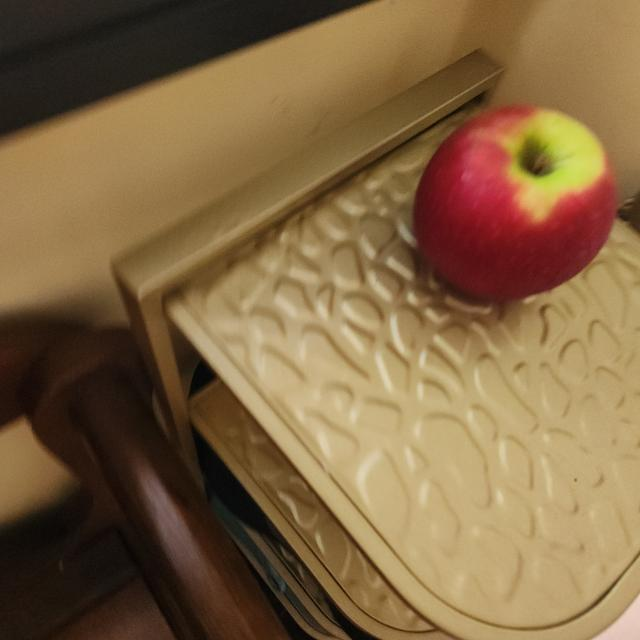apple: (400, 94, 623, 315)
